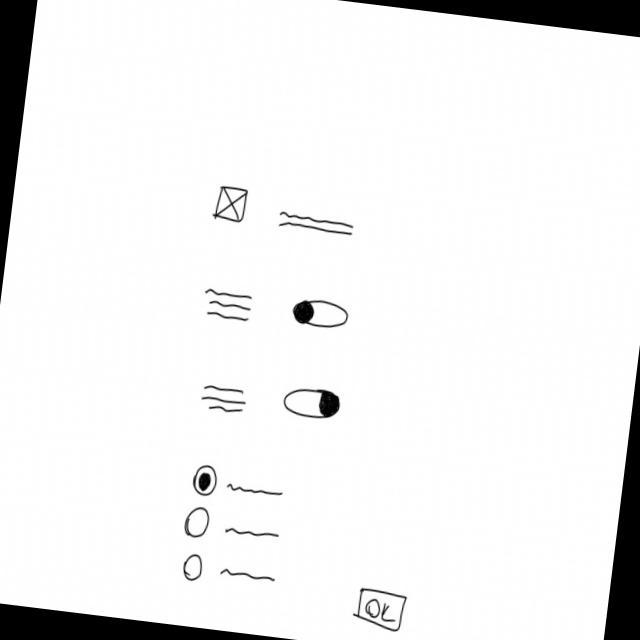button: (353, 584, 410, 635)
image: (212, 184, 250, 226)
radio: (191, 461, 288, 509), (185, 505, 284, 550), (181, 552, 279, 594)
textbox: (277, 210, 356, 242), (201, 287, 257, 327), (198, 381, 249, 418)
toggle: (281, 383, 345, 422), (291, 294, 352, 333)
